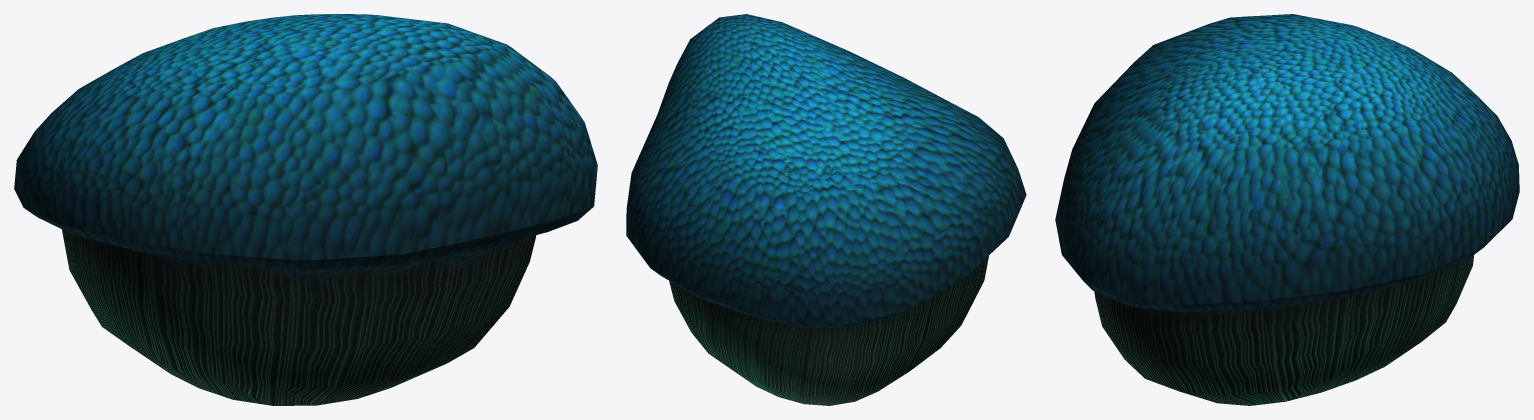
File: MushroomBlueMedium1.obj
3 views of the same model, side by side, from view 1: azimuth 30°, elevation 25°; view 2: azimuth 150°, elevation 25°; view 3: azimuth 270°, elevation 25° (orthographic). The views are drawn at different scales.
Visible parts, largest first — view 1: MushroomBlueMedium1; view 2: MushroomBlueMedium1; view 3: MushroomBlueMedium1.
Boxes of the visible parts, x1,y1,x2,y2 form: MushroomBlueMedium1: [14, 14, 597, 405]; MushroomBlueMedium1: [626, 14, 1026, 405]; MushroomBlueMedium1: [1055, 14, 1519, 405].
Size of the model in its own units: 0.3124 by 0.2296 by 0.2857.
